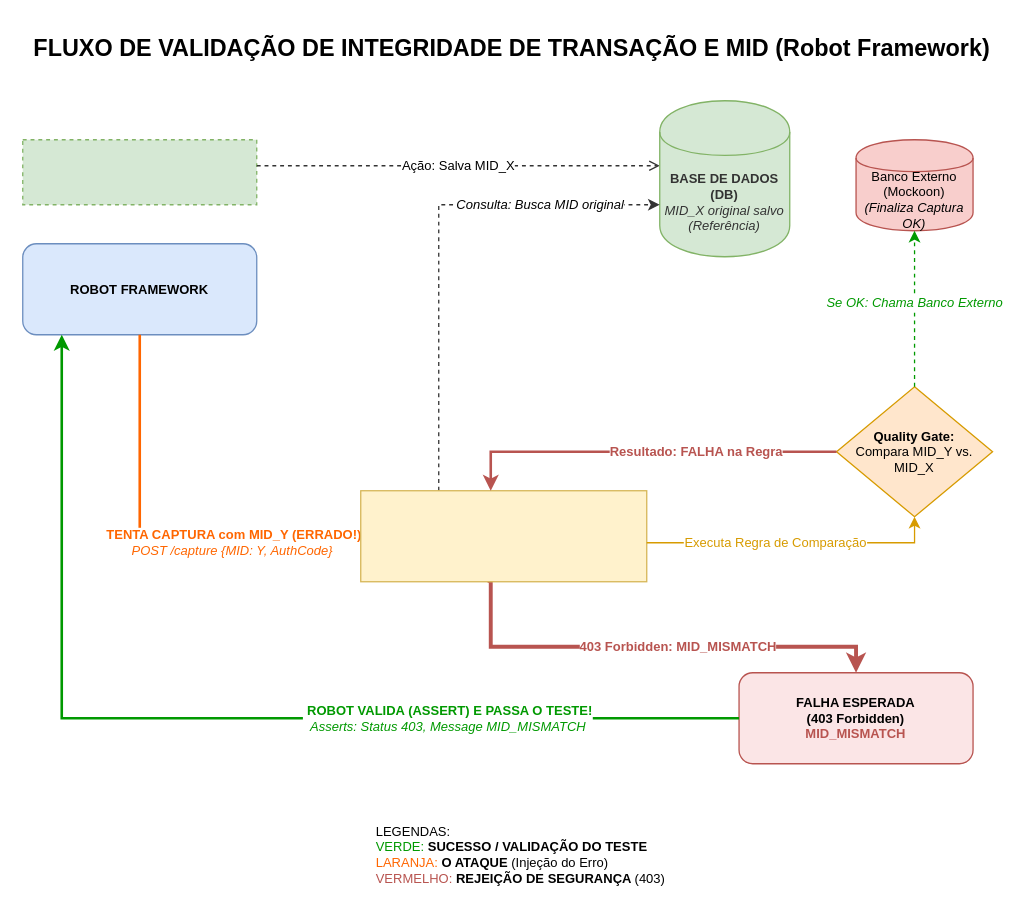
Image size: 1026x915. Some labels were removed from this diagram. The shapes that lost their labels are listed below. From the top down, each one's centre as x and y in pixels, then its label:
At point 139,171: "SETUP: AUTORIZAÇÃO SIMULADA (Garante MID_X no DB)".
At point 503,535: "SERVIÇO DE CAPTURA Quality Gate Ativado Aqui!".
